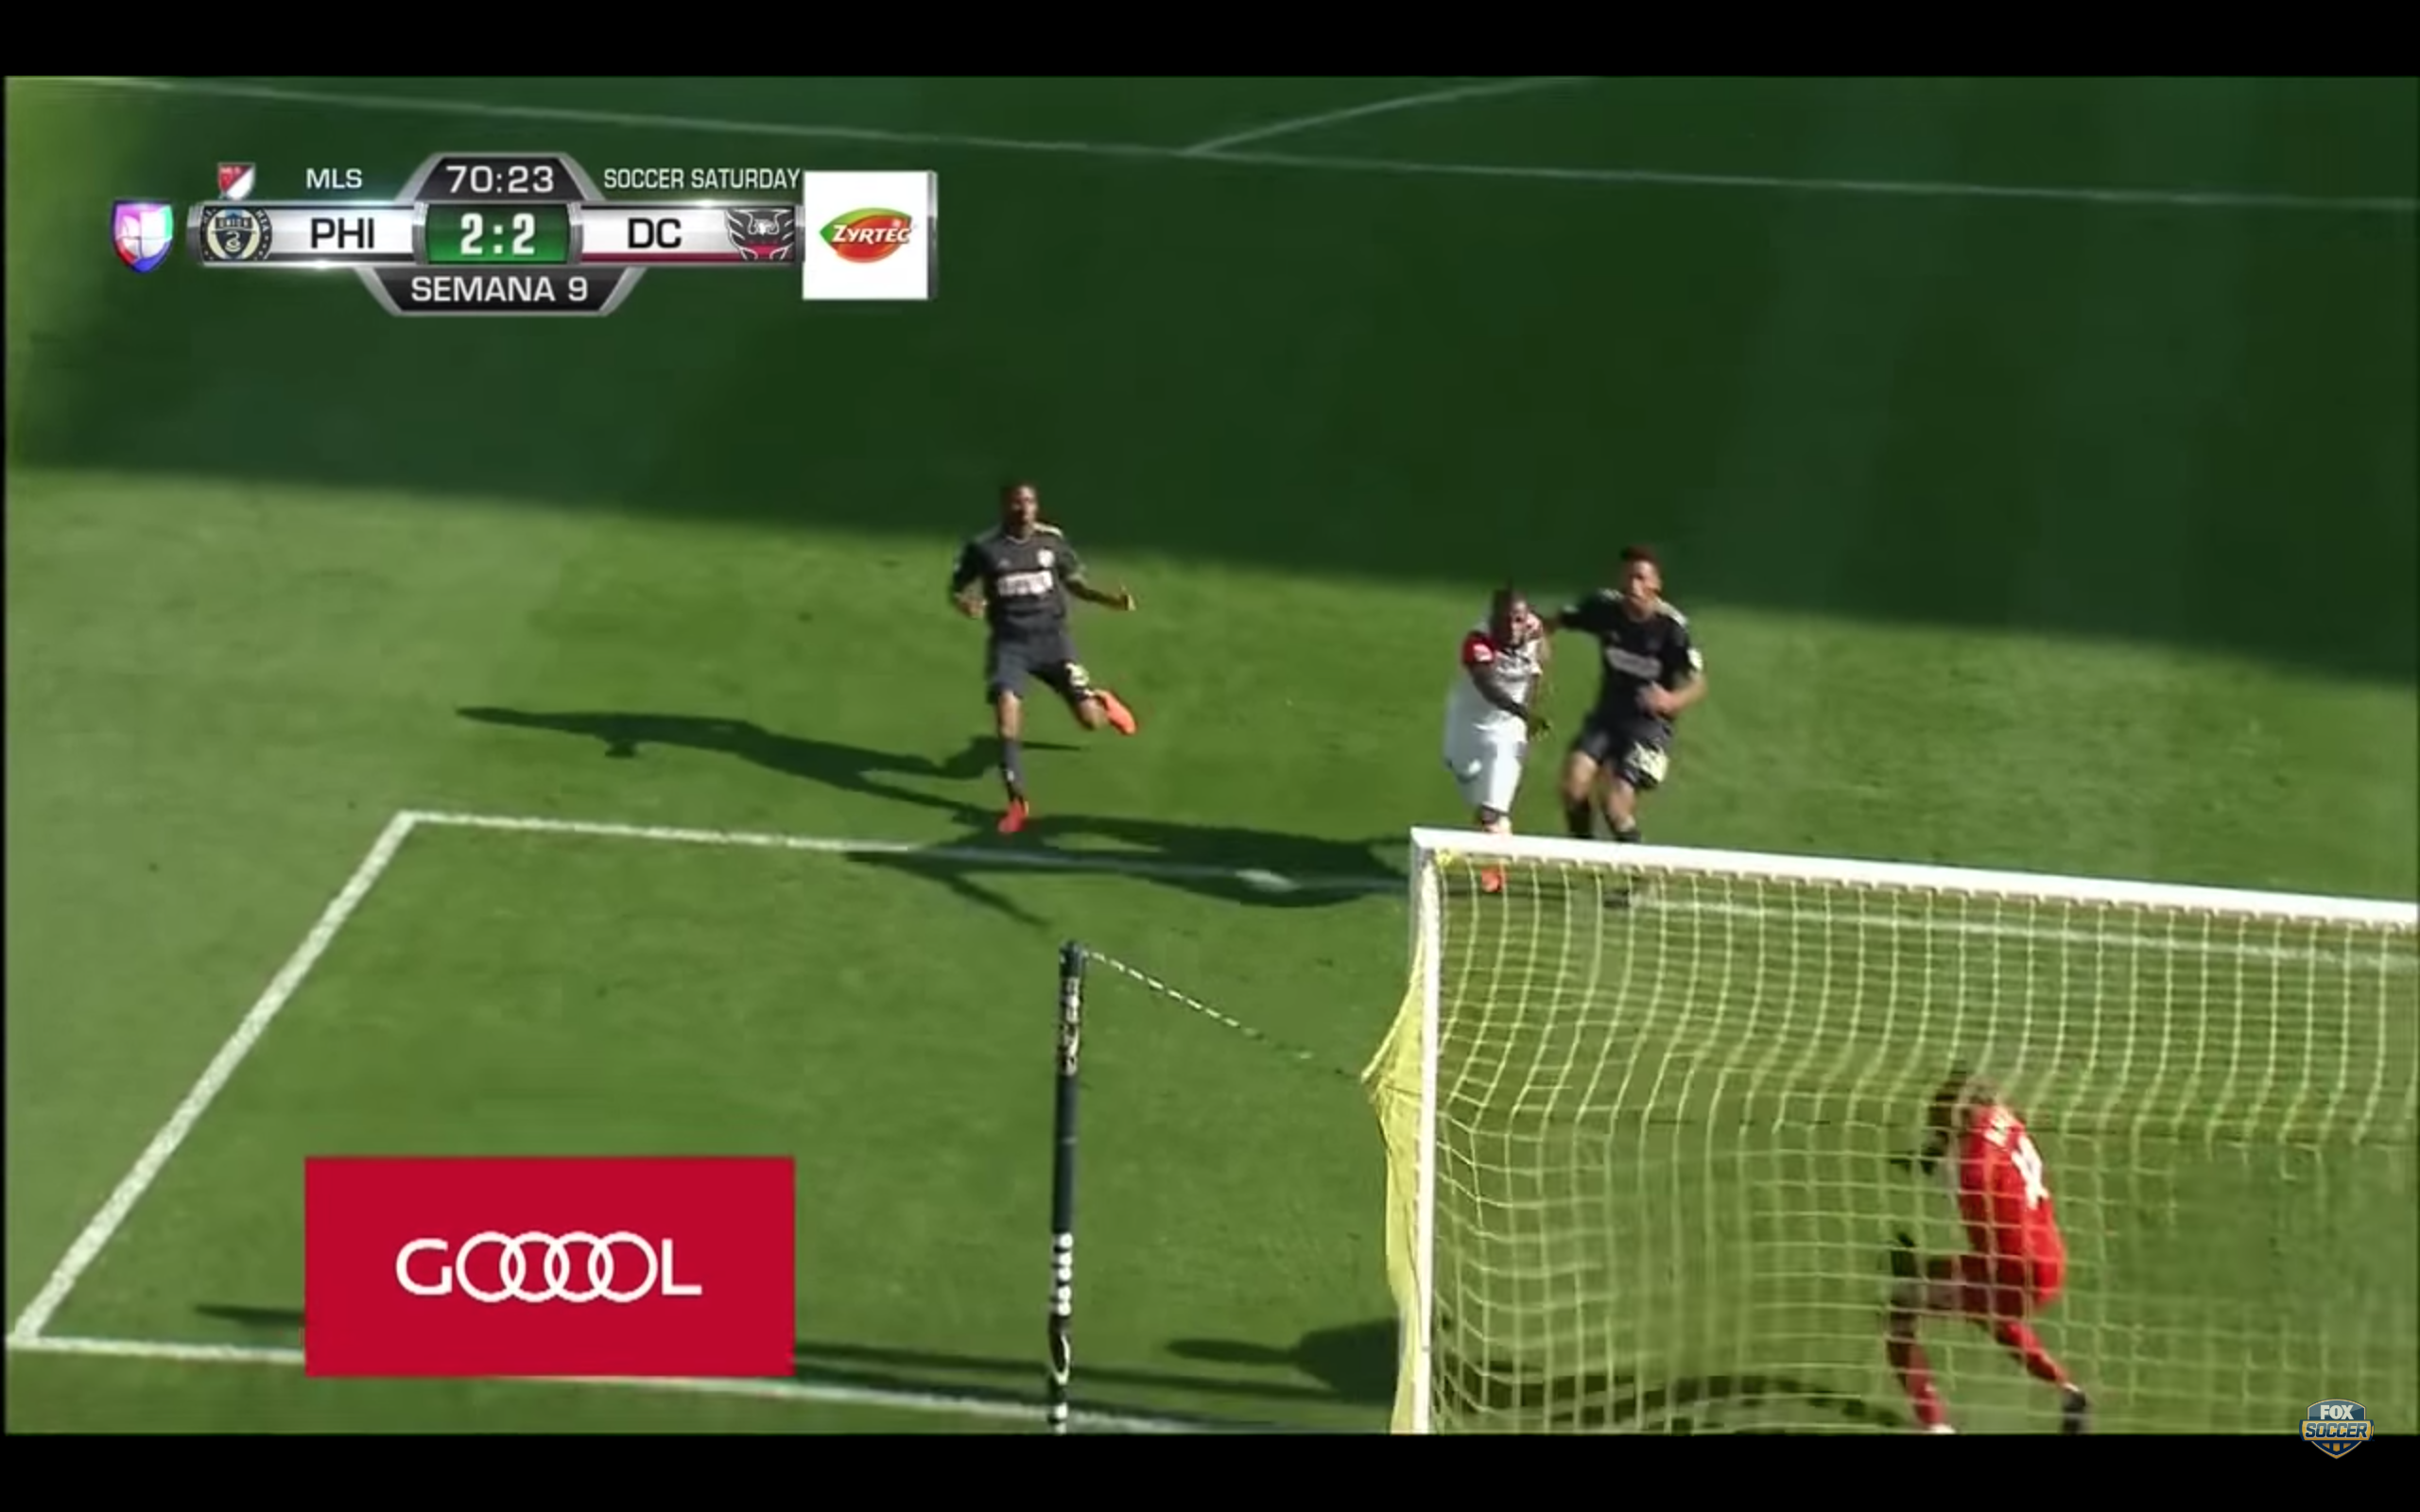soccer player: (1848, 1060, 2099, 1437), (939, 474, 1150, 835), (1557, 543, 1717, 914), (1424, 576, 1553, 902)
